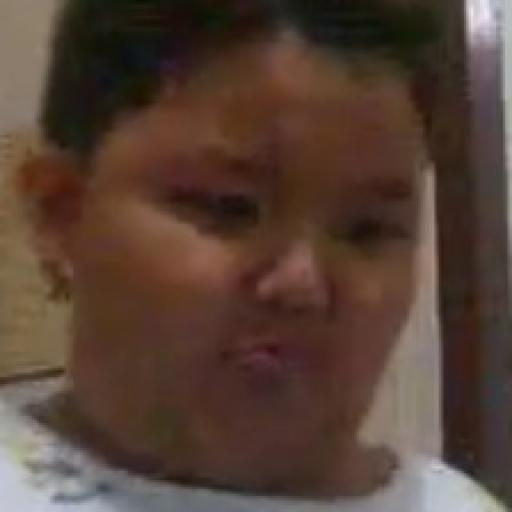Autism: (33, 10, 499, 512)
